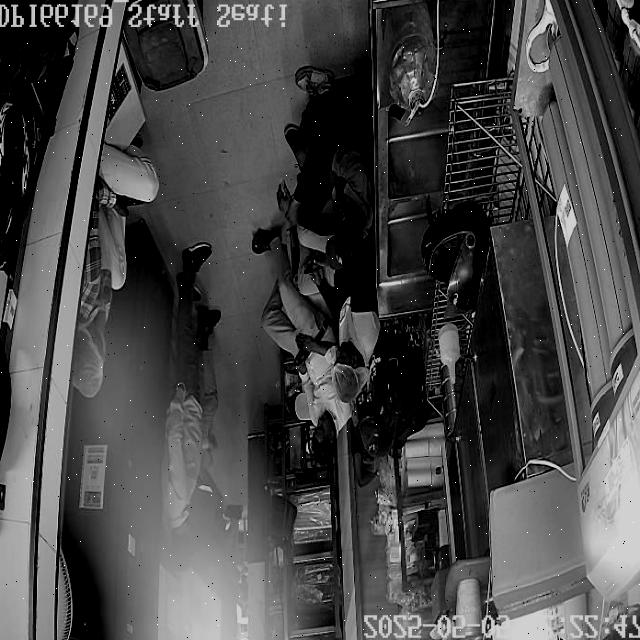helmet: (418, 201, 488, 317)
